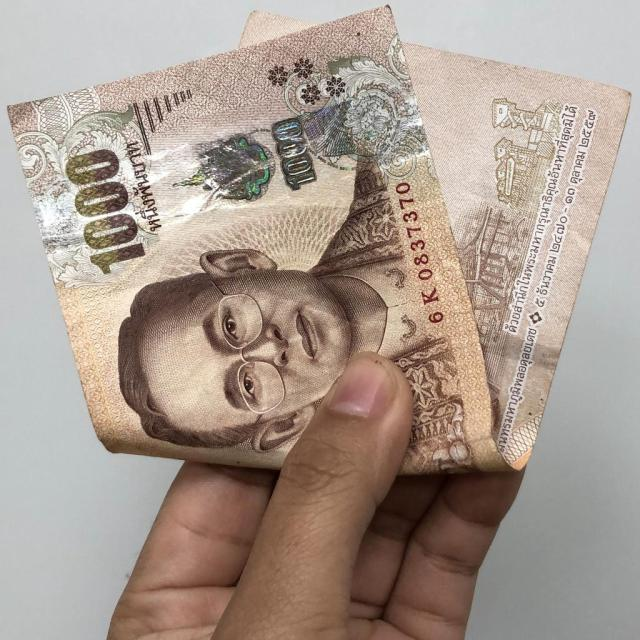THAI1000: (8, 6, 630, 474)
